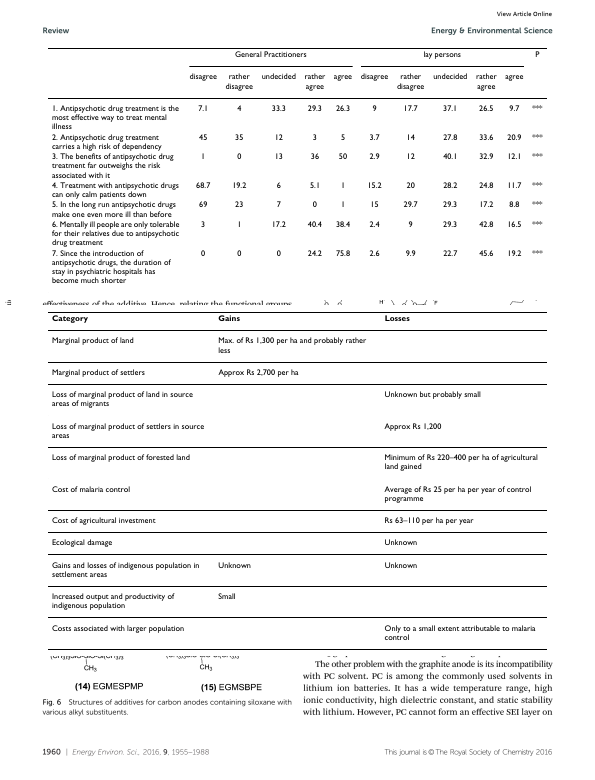borderless: (47, 310, 547, 649), (46, 46, 548, 294)
cell: (50, 249, 171, 286), (50, 220, 180, 248), (50, 104, 179, 132), (50, 152, 174, 181), (50, 422, 205, 441), (383, 453, 538, 472), (383, 624, 536, 643), (217, 337, 367, 356), (50, 561, 200, 580), (383, 485, 532, 504), (50, 390, 193, 409), (50, 200, 176, 220), (50, 181, 179, 200), (50, 592, 175, 611), (50, 133, 162, 152), (50, 453, 190, 463), (50, 624, 185, 634), (50, 516, 156, 526), (383, 390, 481, 400), (50, 368, 145, 378), (383, 516, 474, 526), (217, 368, 299, 378), (50, 485, 131, 495), (50, 337, 134, 346), (233, 50, 307, 60), (383, 422, 442, 432), (395, 73, 425, 92), (50, 539, 113, 548), (224, 73, 253, 92), (303, 73, 326, 92), (474, 73, 497, 92), (422, 50, 461, 60), (383, 561, 418, 571), (50, 315, 88, 324), (217, 561, 251, 571), (260, 73, 296, 82), (432, 73, 468, 82), (383, 539, 418, 548), (359, 73, 389, 82), (188, 73, 217, 82), (383, 315, 410, 324), (217, 315, 240, 324), (217, 592, 236, 602), (332, 73, 353, 82), (504, 73, 524, 82), (334, 220, 351, 230), (334, 249, 351, 259), (270, 104, 286, 114), (306, 104, 322, 114), (334, 104, 350, 114), (402, 104, 418, 114), (442, 104, 458, 114), (478, 104, 494, 114), (442, 133, 458, 143), (478, 133, 494, 143), (506, 133, 522, 143), (442, 152, 458, 162), (478, 152, 494, 162), (506, 152, 522, 162), (195, 181, 211, 191), (231, 181, 247, 191), (366, 181, 382, 191), (442, 181, 458, 191), (478, 181, 494, 191), (506, 181, 522, 191), (402, 200, 418, 210), (442, 200, 458, 210), (478, 200, 494, 210), (270, 220, 286, 230), (306, 220, 322, 230), (442, 220, 458, 230), (478, 220, 494, 230), (506, 220, 522, 230), (306, 249, 322, 259), (442, 249, 458, 259), (478, 249, 494, 259), (506, 249, 522, 259), (197, 104, 209, 114), (508, 104, 520, 114), (531, 104, 543, 114), (368, 133, 380, 143), (531, 133, 543, 143), (368, 152, 380, 162), (531, 152, 543, 162), (308, 181, 320, 191), (531, 181, 543, 191), (508, 200, 520, 210), (531, 200, 543, 210), (368, 220, 380, 230), (531, 220, 543, 230), (368, 249, 380, 259), (404, 249, 416, 259), (531, 249, 543, 259), (309, 152, 320, 162), (337, 152, 348, 162), (198, 133, 208, 143), (234, 133, 244, 143), (273, 133, 283, 143), (405, 133, 415, 143), (273, 152, 283, 162), (405, 152, 415, 162), (405, 181, 415, 191), (198, 200, 208, 210), (234, 200, 244, 210), (369, 200, 379, 210), (339, 133, 346, 143), (339, 181, 346, 191), (339, 200, 346, 210), (534, 50, 540, 60), (236, 104, 242, 114), (371, 104, 377, 114), (311, 133, 317, 143), (200, 152, 206, 162), (236, 152, 242, 162), (275, 181, 281, 191), (275, 200, 281, 210), (311, 200, 317, 210), (200, 220, 206, 230), (236, 220, 242, 230), (407, 220, 413, 230), (200, 249, 206, 259), (236, 249, 242, 259), (275, 249, 281, 259)
